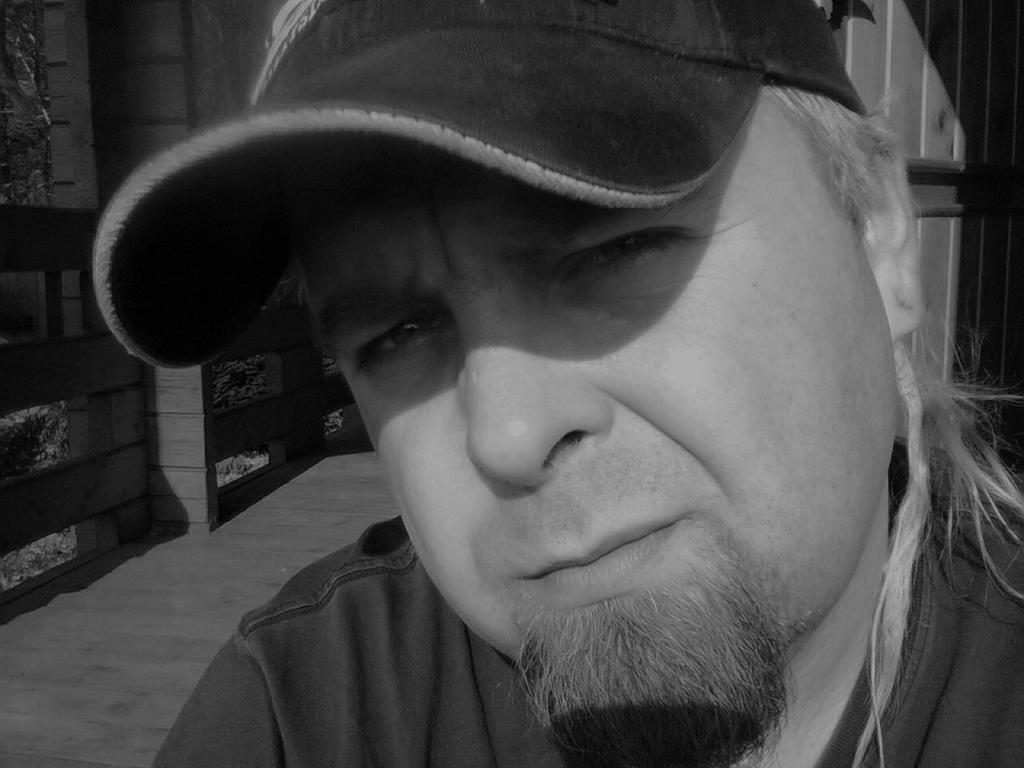Hat: (96, 0, 878, 368)
